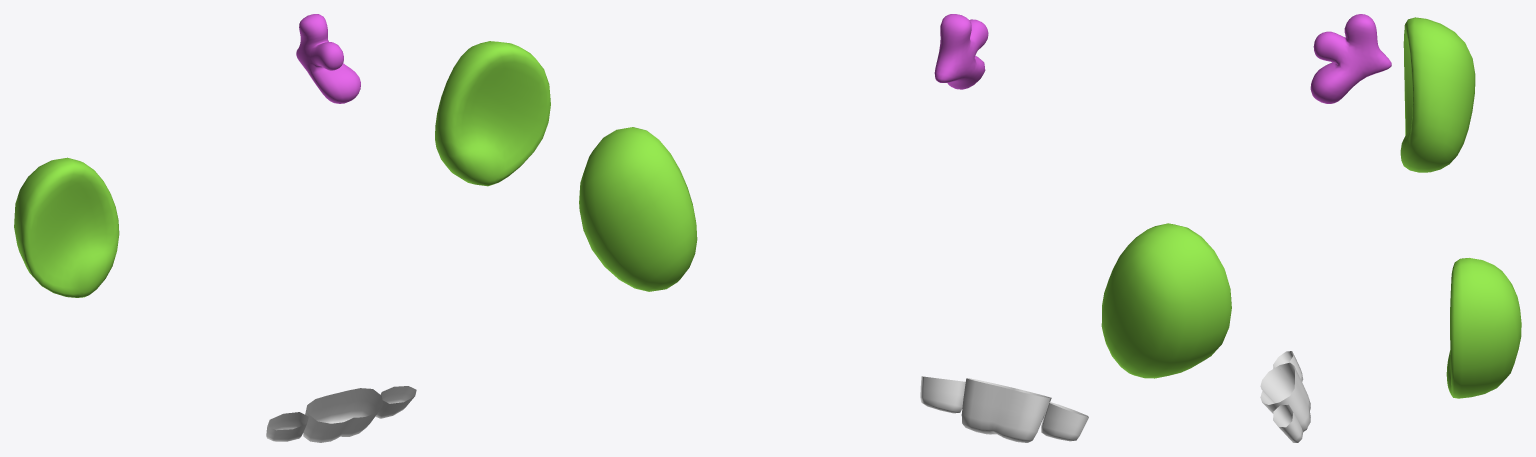
Rendered from Addons.fbx.
The picture shows the model from 3 angles, left to right: view 1: azimuth 30°, elevation 25°; view 2: azimuth 150°, elevation 25°; view 3: azimuth 270°, elevation 25°; orthographic projection. The views are drawn at different scales.
Parts seen in each view (by area): view 1: LeftEar, RightEar, Teeth, Hair; view 2: RightEar, LeftEar, Teeth, Hair; view 3: RightEar, LeftEar, Hair, Teeth.
Part boxes in pixels (<box>): LeftEar: <box>435,41,550,186</box>; RightEar: <box>14,157,119,297</box>; Teeth: <box>266,386,416,442</box>; Hair: <box>296,14,360,103</box>; RightEar: <box>1101,223,1231,378</box>; LeftEar: <box>579,127,697,291</box>; Teeth: <box>920,376,1088,442</box>; Hair: <box>934,14,988,89</box>; RightEar: <box>1400,17,1475,172</box>; LeftEar: <box>1446,258,1521,398</box>; Hair: <box>1310,14,1391,103</box>; Teeth: <box>1260,351,1310,442</box>.
Bounding box in the file's own units: 42.4 × 29.22 × 16.8.
